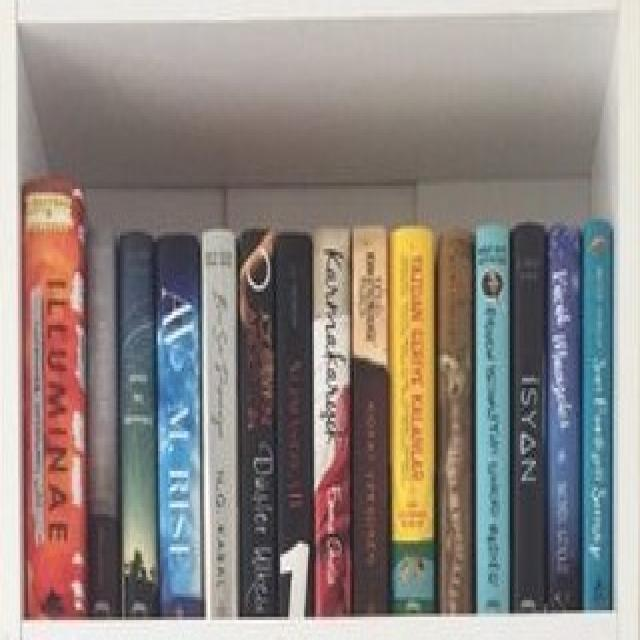book: (23, 179, 84, 621), (158, 234, 201, 619), (394, 227, 436, 613), (120, 233, 159, 618), (276, 232, 314, 617), (353, 227, 390, 616), (314, 226, 349, 616), (239, 228, 274, 616), (202, 230, 237, 617), (547, 225, 582, 611), (512, 225, 546, 612), (475, 227, 509, 612), (439, 229, 472, 612), (582, 221, 614, 612), (86, 231, 118, 619)
